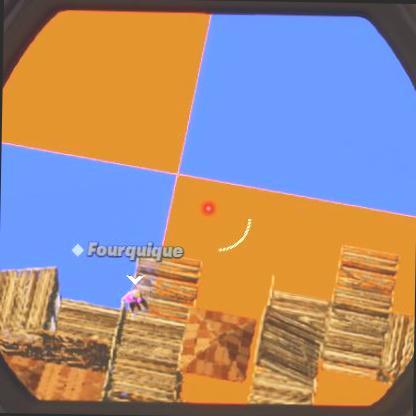person: (125, 290, 149, 314)
